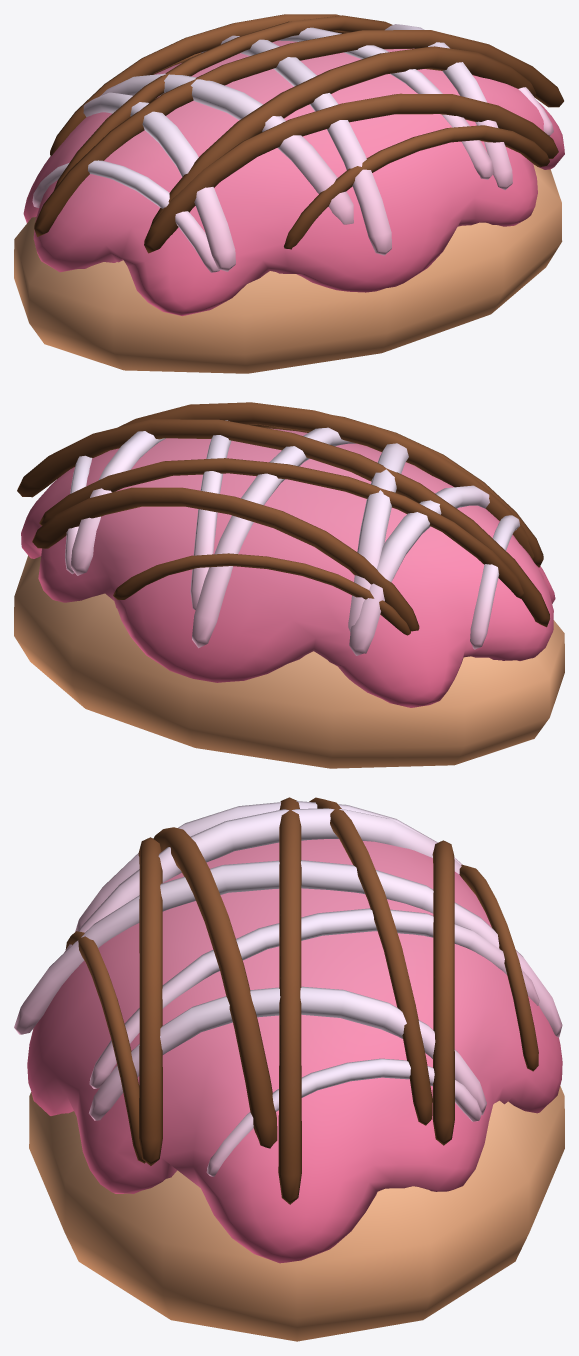
The model's file is candy_choco_29.fbx.
3 renders of one model, top to bottom at view 1: azimuth 30°, elevation 25°; view 2: azimuth 150°, elevation 25°; view 3: azimuth 270°, elevation 25°, orthographic. The views are drawn at different scales.
Visible parts, largest first — view 1: c_c_29; view 2: c_c_29; view 3: c_c_29.
Part boxes in pixels (<box>): c_c_29: <box>14,14,564,373</box>; c_c_29: <box>14,402,564,768</box>; c_c_29: <box>14,797,564,1341</box>.
Bounding box in the file's own units: 183 × 82.87 × 122.
